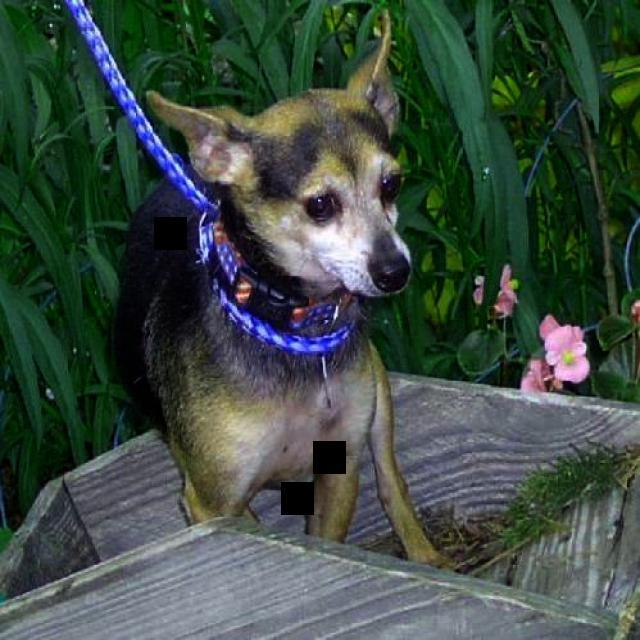adult_dog: (114, 20, 452, 575)
